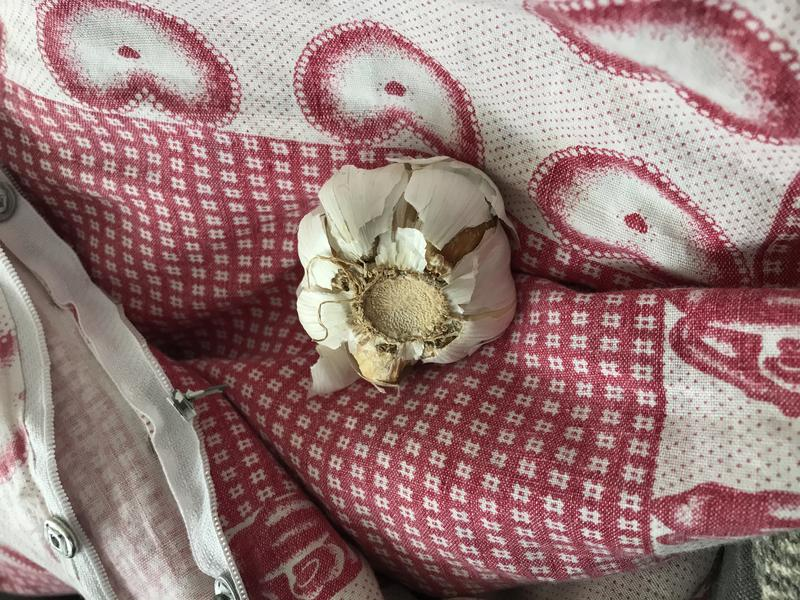garlic: (283, 148, 529, 393)
